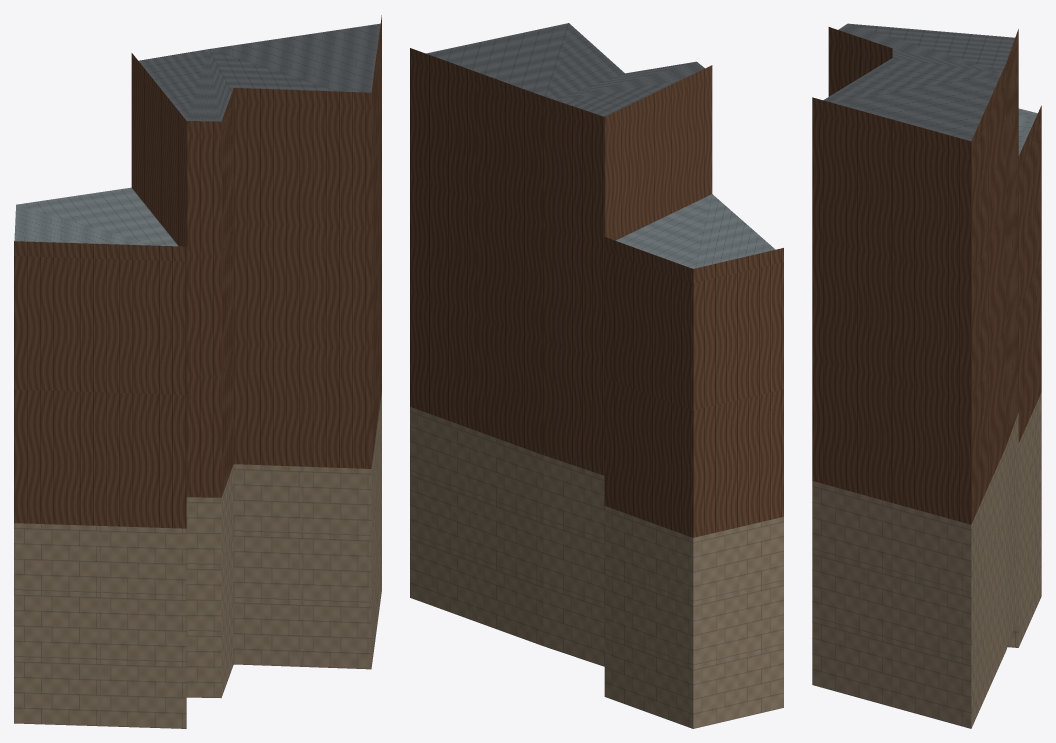
The model's file is bld_c36_-26_439.gltf.
3 renders of one model, left to right at view 1: azimuth 30°, elevation 25°; view 2: azimuth 150°, elevation 25°; view 3: azimuth 270°, elevation 25°, orthographic. The views are drawn at different scales.
Visible parts, largest first — view 1: bld_c36_-26_439; view 2: bld_c36_-26_439; view 3: bld_c36_-26_439.
Boxes of the visible parts, x1,y1,x2,y2 form: bld_c36_-26_439: [14, 15, 381, 728]; bld_c36_-26_439: [410, 23, 783, 728]; bld_c36_-26_439: [812, 23, 1041, 728].
Bounding box in the file's own units: 10.12 × 15.48 × 5.2.
Materials: 5 (5 with a texture image).
